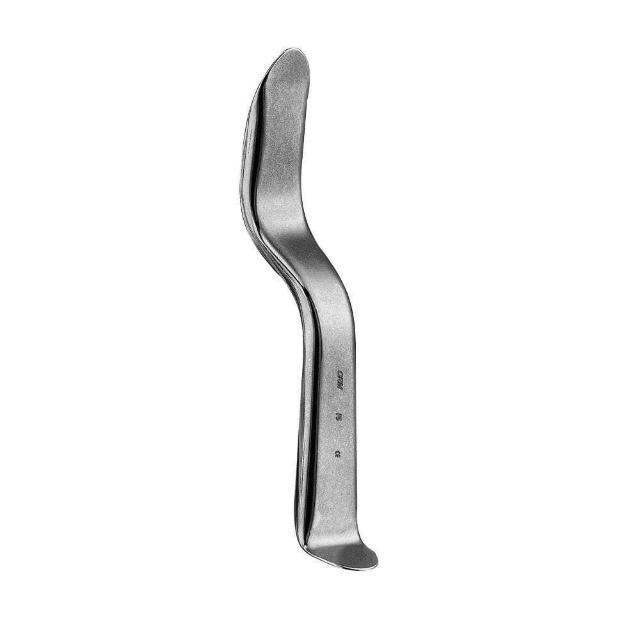separador: (238, 47, 381, 574)
